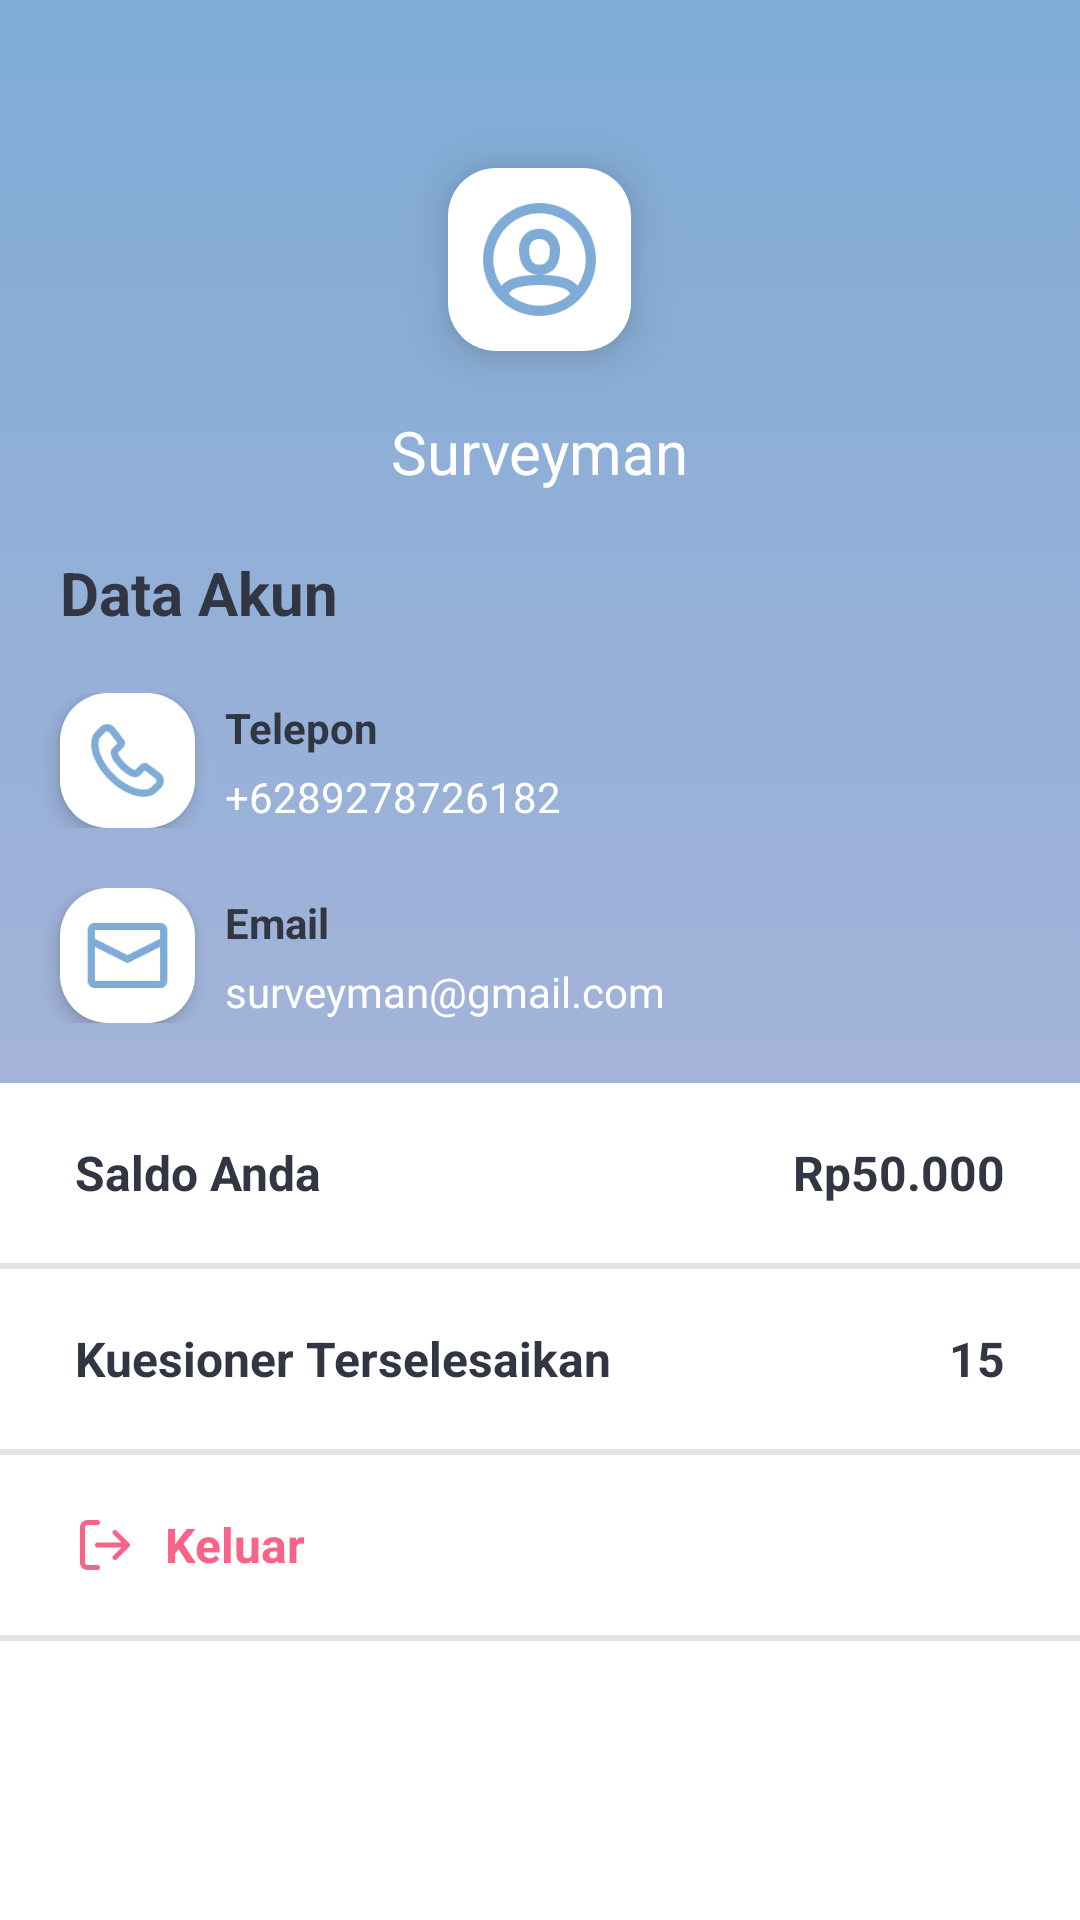

Icons on this 1080x1920 Android screen, each with the point to tap as point (x, y):
Profile Picture: point (539, 259)
Telephone Icon: point (127, 760)
